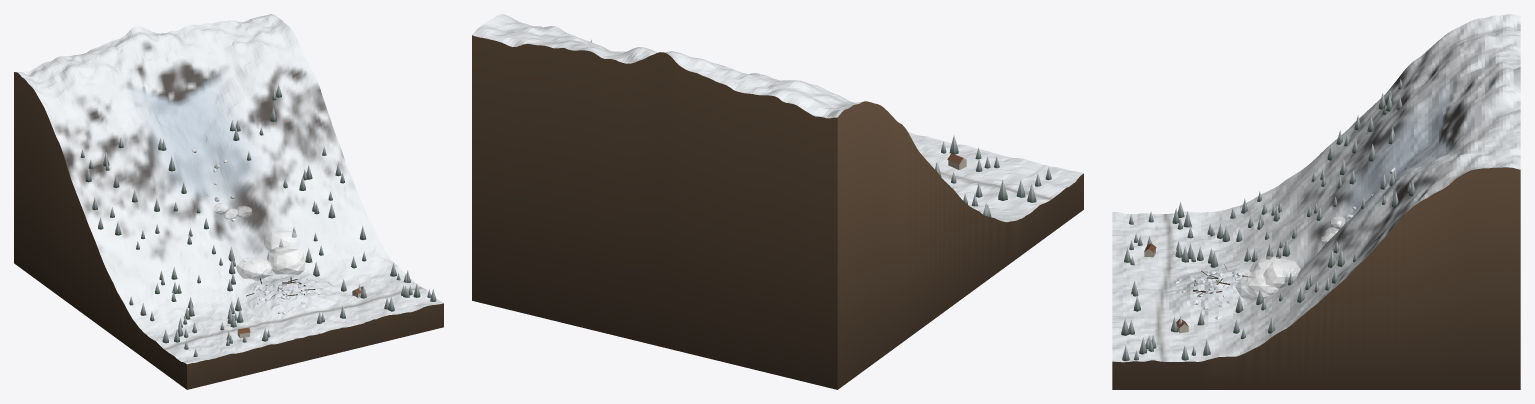
Rendered from avalanche-lod1.glb.
The picture shows the model from 3 angles, left to right: view 1: azimuth 30°, elevation 25°; view 2: azimuth 150°, elevation 25°; view 3: azimuth 270°, elevation 25°; orthographic projection. The views are drawn at different scales.
Visible parts, largest first — view 1: terrain, plinth, trees, powder, snow_blocks; view 2: plinth, terrain, trees; view 3: terrain, plinth, trees, powder, snow_blocks.
Boxes of the visible parts, x1=… form: terrain: x1=15, y1=14, x2=443, y2=364; plinth: x1=14, y1=72, x2=443, y2=389; trees: x1=80, y1=84, x2=436, y2=356; powder: x1=213, y1=203, x2=305, y2=280; snow_blocks: x1=191, y1=148, x2=333, y2=314; plinth: x1=472, y1=35, x2=1083, y2=389; terrain: x1=472, y1=14, x2=1083, y2=222; trees: x1=590, y1=39, x2=1051, y2=217; terrain: x1=1112, y1=14, x2=1520, y2=362; plinth: x1=1112, y1=167, x2=1520, y2=389; trees: x1=1121, y1=79, x2=1415, y2=360; powder: x1=1235, y1=216, x2=1345, y2=301; snow_blocks: x1=1174, y1=167, x2=1395, y2=319.
Size of the model in its own units: 12 by 9.26 by 14.
